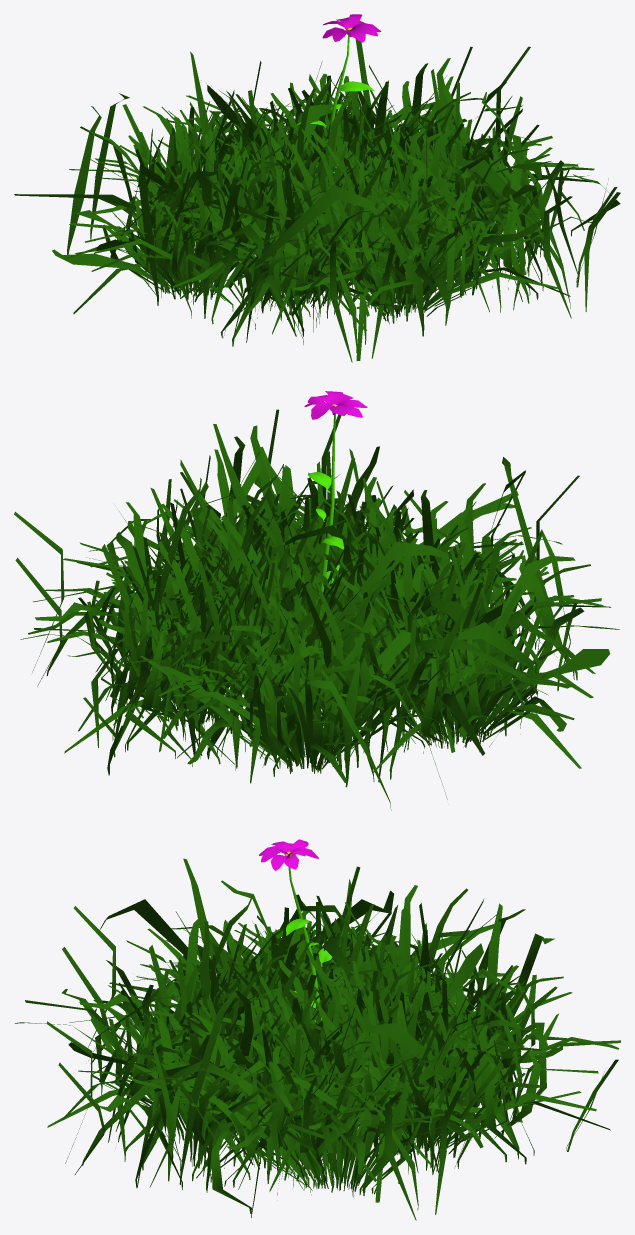
Rendered from Player_test5.fbx.
3 renders of one model, top to bottom at view 1: azimuth 30°, elevation 25°; view 2: azimuth 150°, elevation 25°; view 3: azimuth 270°, elevation 25°, orthographic. The views are drawn at different scales.
Visible parts, largest first — view 1: Player; view 2: Player; view 3: Player.
Part boxes in pixels (x1,y1,x2,y2): Player: (14,14,620,362); Player: (14,391,619,810); Player: (15,839,620,1220).
Size of the model in its own units: 178 by 90.27 by 182.
